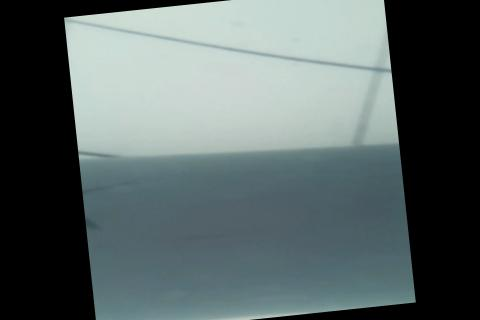keretakan: (81, 177, 137, 193), (85, 214, 104, 234)
